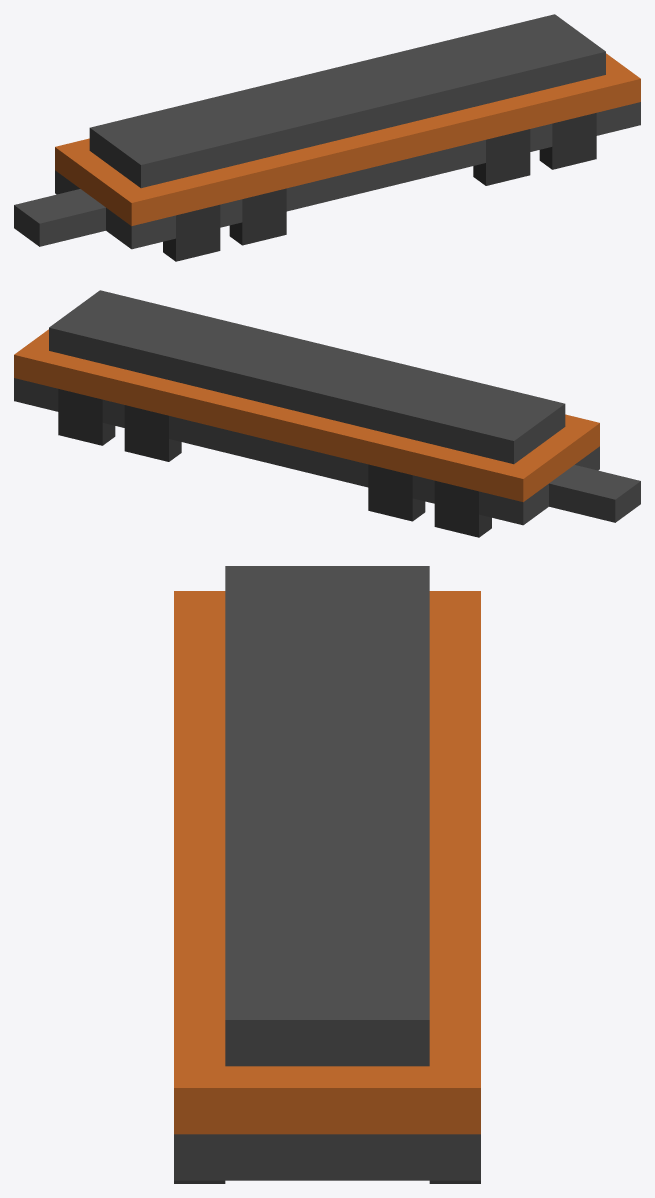
File: train-trailer-v7-orange.gltf
3 renders of one model, top to bottom at view 1: azimuth 30°, elevation 25°; view 2: azimuth 150°, elevation 25°; view 3: azimuth 270°, elevation 25°, orthographic. The views are drawn at different scales.
Parts seen in each view (by area): view 1: model, wheels; view 2: model, wheels; view 3: model.
Part boxes in pixels (box(x1,y1,x2,y2)): model: box(14, 14, 640, 249); wheels: box(163, 113, 596, 261); model: box(14, 290, 640, 525); wheels: box(58, 389, 491, 537); model: box(174, 566, 480, 1180).
Size of the model in its own units: 2.6 by 0.4 by 0.6.
Materials: 2 (2 with a texture image).
